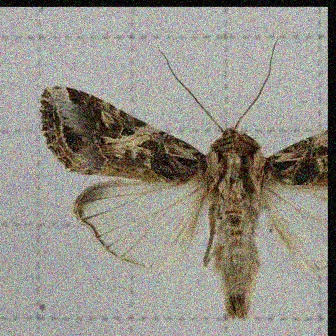Spodoptera litura: (39, 37, 326, 317)
